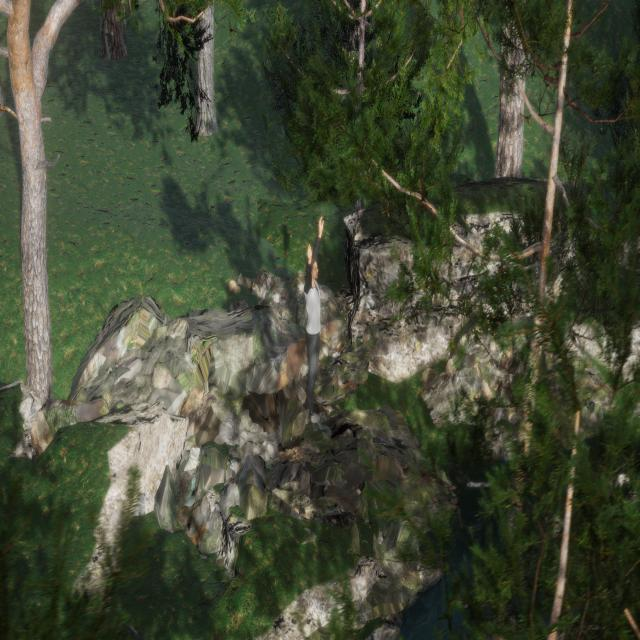Human: (294, 205, 333, 413)
